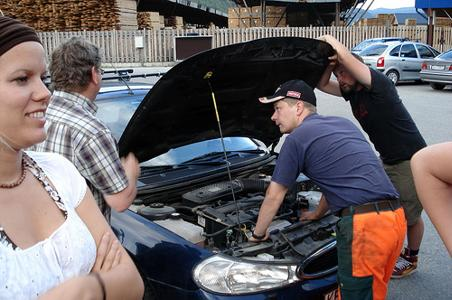person: (248, 80, 408, 300)
